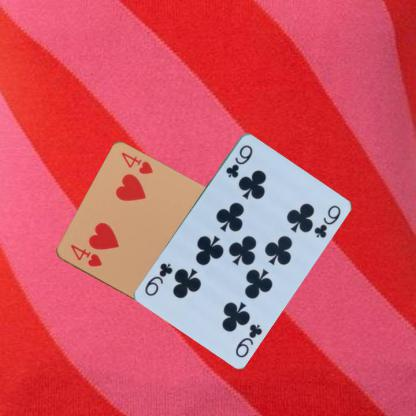4h: (67, 242, 103, 269)
9c: (232, 321, 264, 358), (223, 142, 254, 179)
